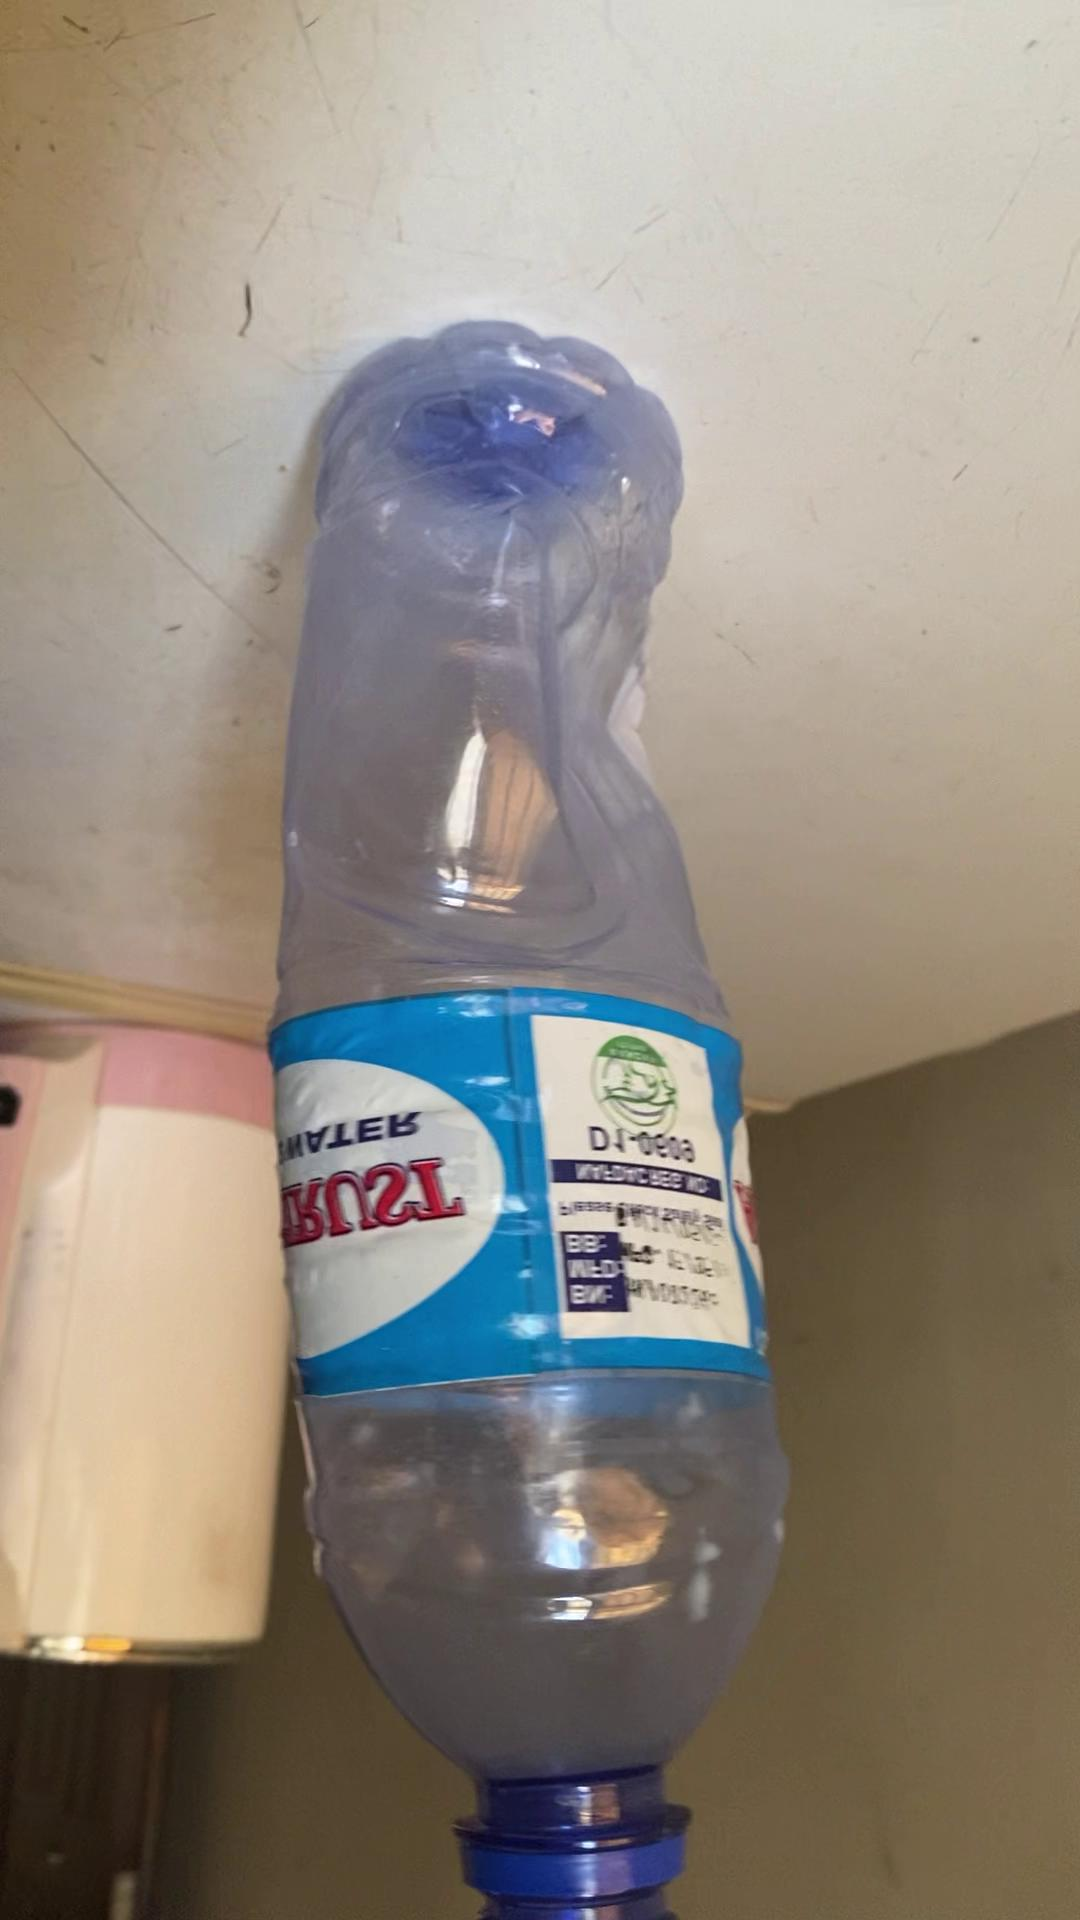crumbled: (267, 316, 795, 1920)
label: (284, 997, 774, 1389)
no-cap: (460, 1856, 688, 1920)
